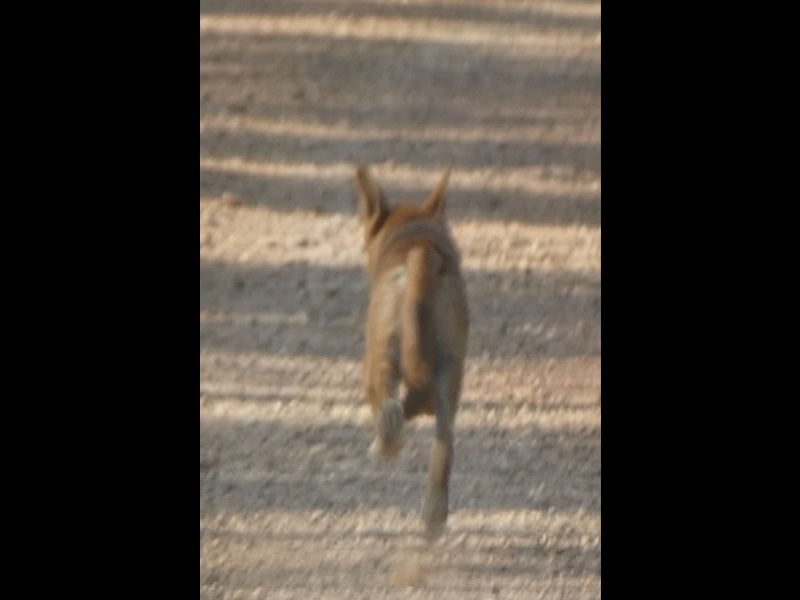dog: (343, 155, 482, 551)
